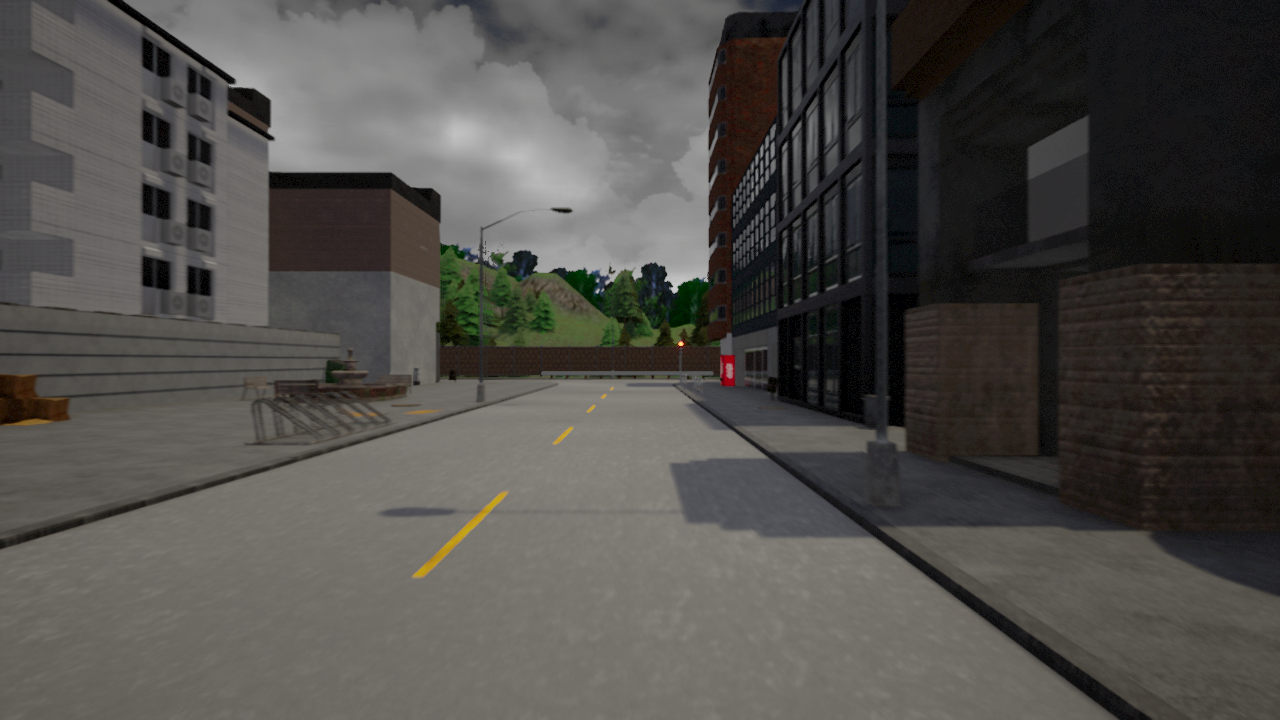red: (677, 340, 684, 355)
